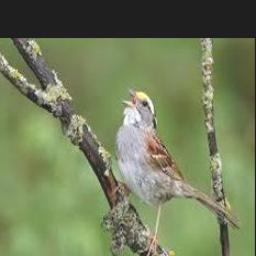Sparrow: (114, 86, 240, 256)
